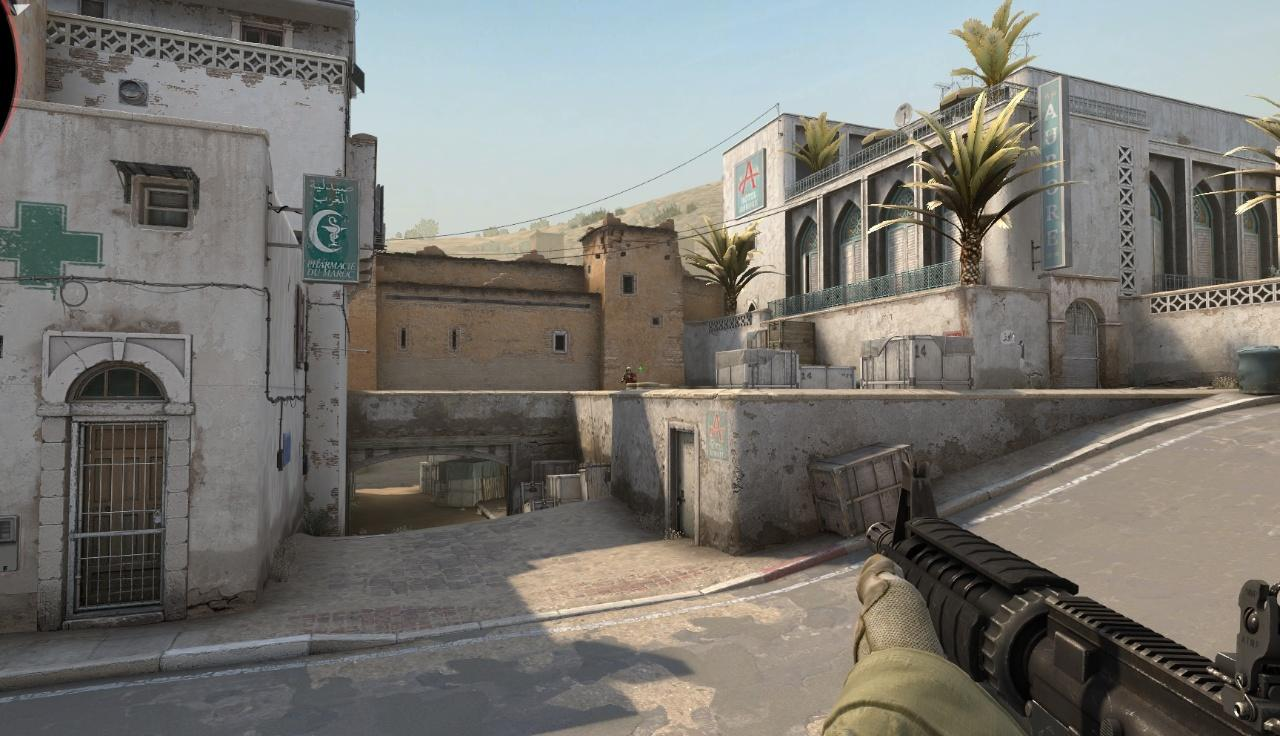rifle: (822, 462, 1280, 736)
tt: (621, 367, 637, 390)
tthead: (626, 367, 631, 374)
